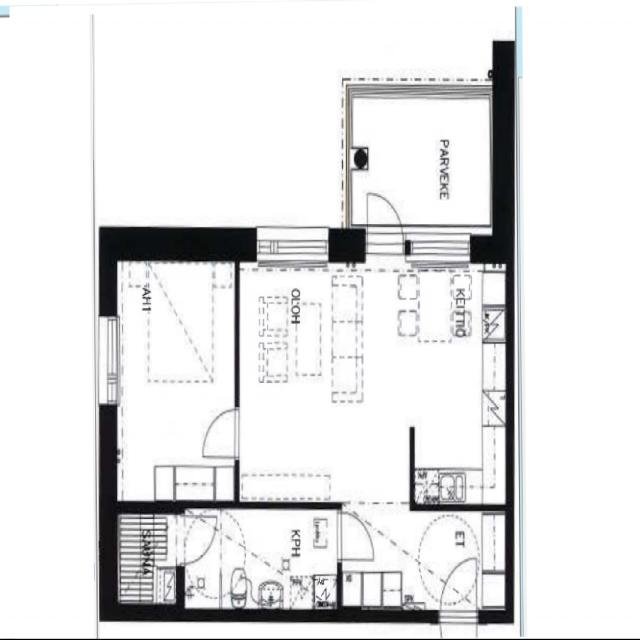door: (368, 184, 403, 262), (441, 555, 477, 621), (176, 516, 216, 564), (203, 409, 239, 457), (338, 513, 373, 559)
